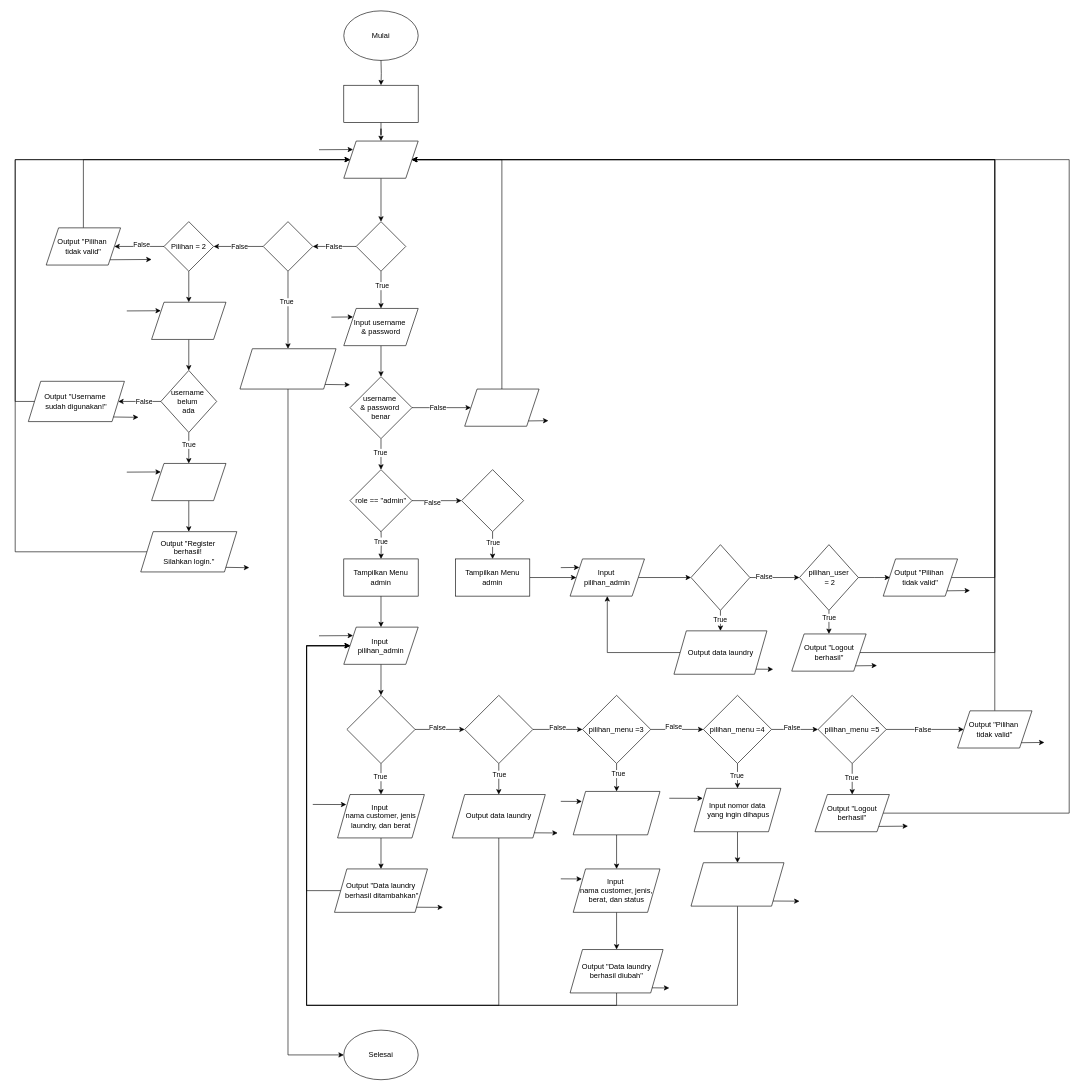
Image size: 1085x1091. Some labels were removed from this diagram. Each missing label, with the centre of its shape:
Input nomor data yang ingin diubah: pixel 616 813
Input password: pixel 188 482
Input pilihan: pixel 380 159
Input username baru: pixel 188 320
Output "Data laundry berhasil dihapus ": pixel 737 884
Output "Login gagal ": pixel 501 407
Output "Terimakasih telah menggunakan aplikasi laundry ": pixel 287 368
Pilihan = 1: pixel 381 246
Pilihan = 3: pixel 288 246
pilihan_menu =1: pixel 380 729
pilihan_menu =2: pixel 498 729
pilihan_user = 1: pixel 720 577
role == "user": pixel 492 500
tampilkan menu awal: pixel 380 103
